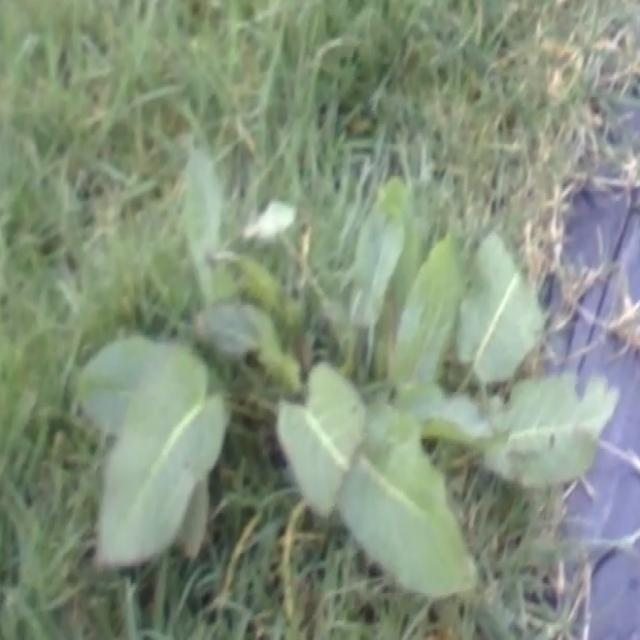organic waste: (89, 125, 588, 590)
